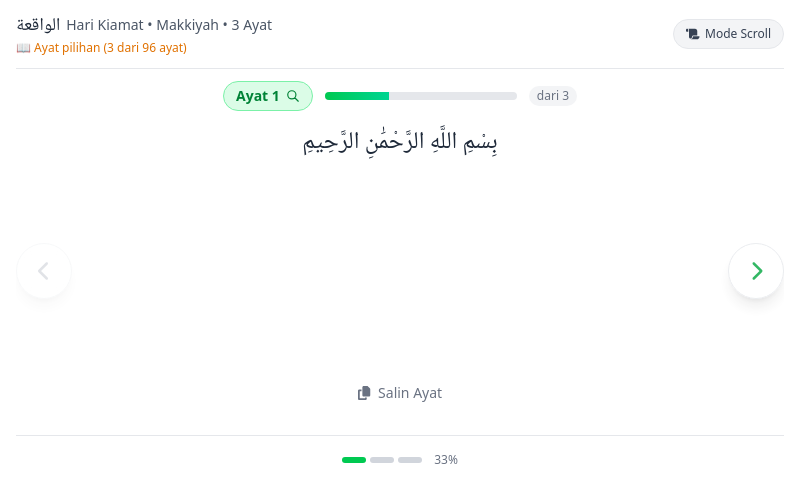
Scenario: QuranReader › Navigation › should navigate to previous ayat using desktop button
The image size is (801, 481).
# Go to second ayat first
Click the button named "Next ayat": [756, 271] box [728, 243, 784, 299]
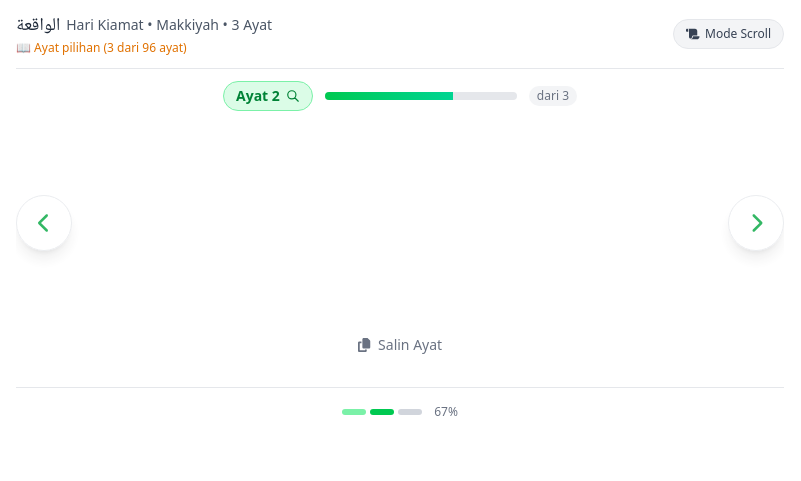
#  Go back
Click the button named "Previous ayat": [44, 223] box [16, 195, 72, 251]
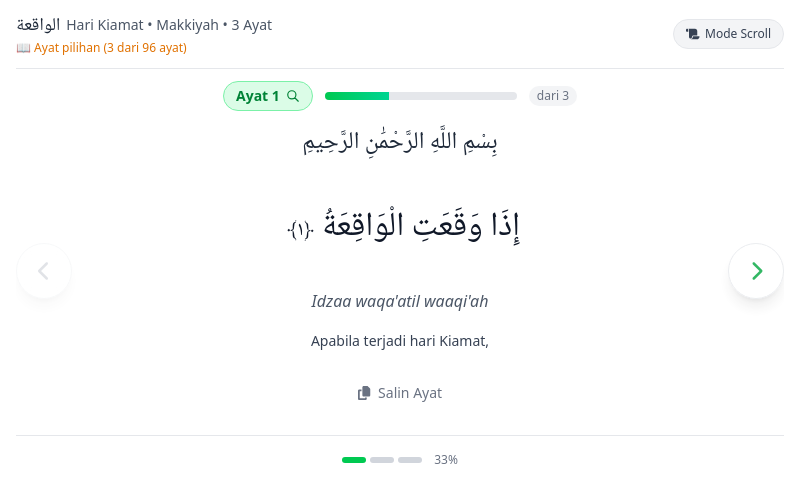
Expected: the text "إِذَا وَقَعَتِ الْوَاقِعَةُ ﴿١﴾" is shown, [287, 199, 521, 256]
